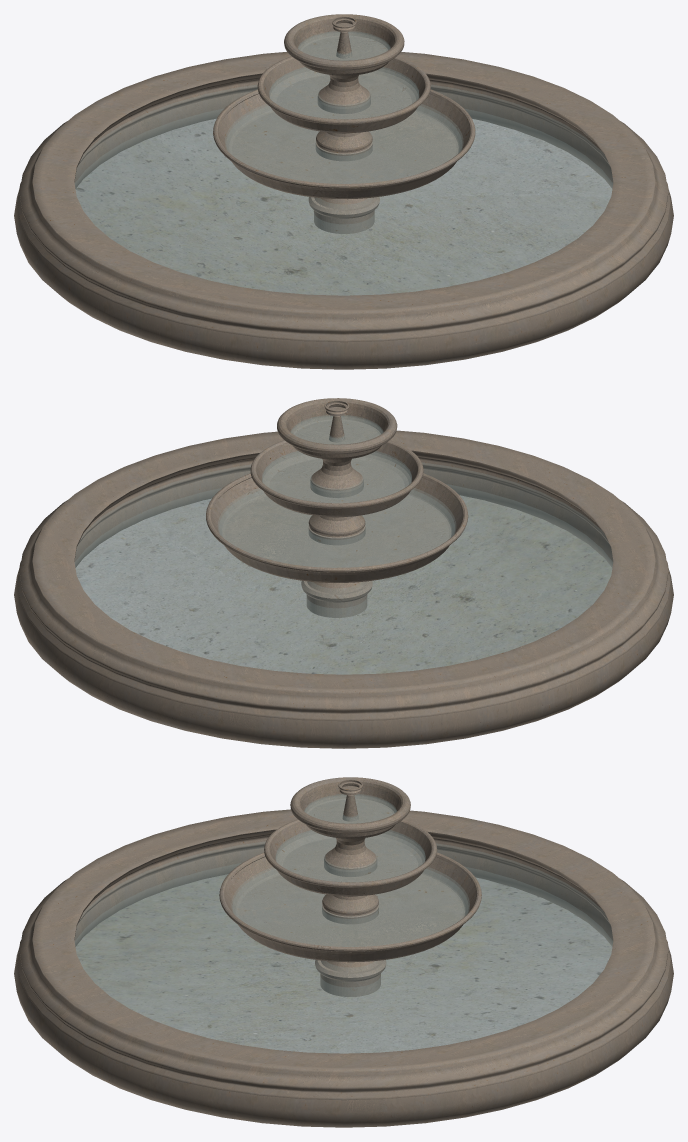
File: fountain_model.glb
3 views of the same model, one above another, from view 1: azimuth 30°, elevation 25°; view 2: azimuth 150°, elevation 25°; view 3: azimuth 270°, elevation 25° (orthographic).
Parts seen in each view (by area): view 1: Torus, Cylinder.002, Cylinder.001, Circle.001, Cylinder.003, Cylinder.005, Cylinder.004; view 2: Torus, Cylinder.002, Cylinder.001, Circle.001, Cylinder.003, Cylinder.005, Cylinder.004; view 3: Torus, Cylinder.002, Cylinder.001, Circle.001, Cylinder.003, Cylinder.005, Cylinder.004.
Boxes of the visible parts, box(x1,y1,x2,y2) form: Torus: box(14, 52, 673, 369); Cylinder.002: box(75, 85, 612, 295); Cylinder.001: box(75, 119, 612, 295); Circle.001: box(213, 14, 475, 233); Cylinder.003: box(225, 104, 462, 183); Cylinder.005: box(269, 67, 418, 118); Cylinder.004: box(298, 31, 390, 60); Torus: box(14, 430, 673, 748); Cylinder.002: box(75, 463, 612, 674); Cylinder.001: box(75, 495, 612, 674); Circle.001: box(206, 398, 468, 617); Cylinder.003: box(218, 488, 455, 567); Cylinder.005: box(262, 451, 411, 502); Cylinder.004: box(291, 415, 382, 444); Torus: box(14, 809, 673, 1127); Cylinder.002: box(75, 842, 612, 1053); Cylinder.001: box(75, 874, 612, 1053); Circle.001: box(219, 777, 481, 996); Cylinder.003: box(232, 867, 469, 946); Cylinder.005: box(275, 830, 425, 881); Cylinder.004: box(304, 794, 396, 823).
Size of the model in its own units: 6.5 by 2.32 by 6.5.
4 materials, 3 textured.
